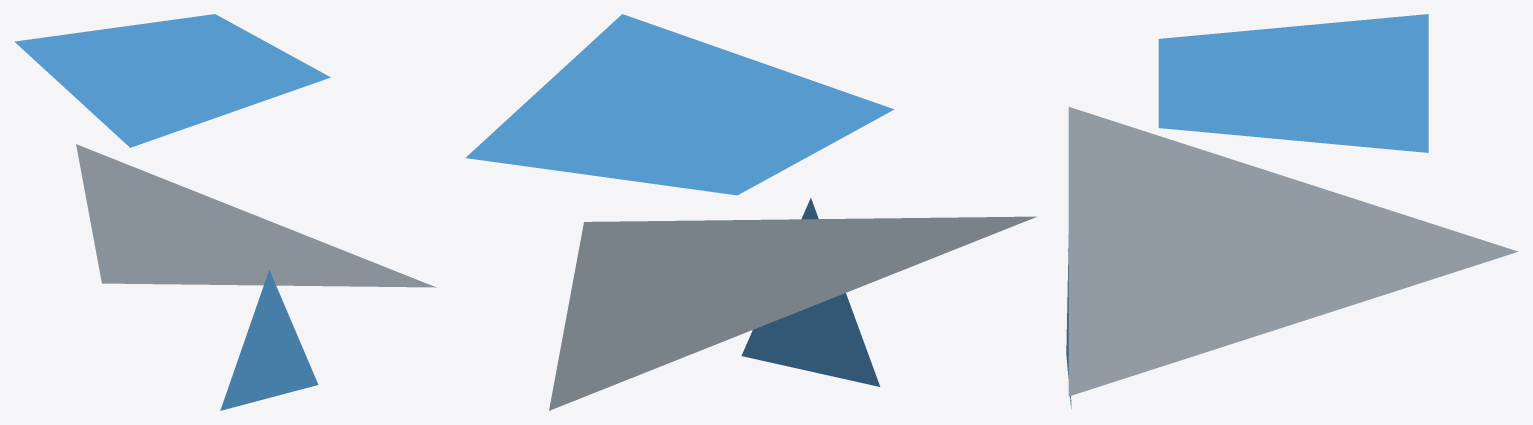
Rendered from AL_TechCenter_LOD2.glb.
3 renders of one model, left to right at view 1: azimuth 30°, elevation 25°; view 2: azimuth 150°, elevation 25°; view 3: azimuth 270°, elevation 25°, orthographic. The views are drawn at different scales.
Parts seen in each view (by area): view 1: EntranceGate; view 2: EntranceGate; view 3: EntranceGate.
Boxes of the visible parts, x1,y1,x2,y2 form: EntranceGate: (14, 14, 436, 410); EntranceGate: (465, 14, 1036, 410); EntranceGate: (1066, 14, 1517, 408).
Bounding box in the file's own units: 600 × 458 × 603.
